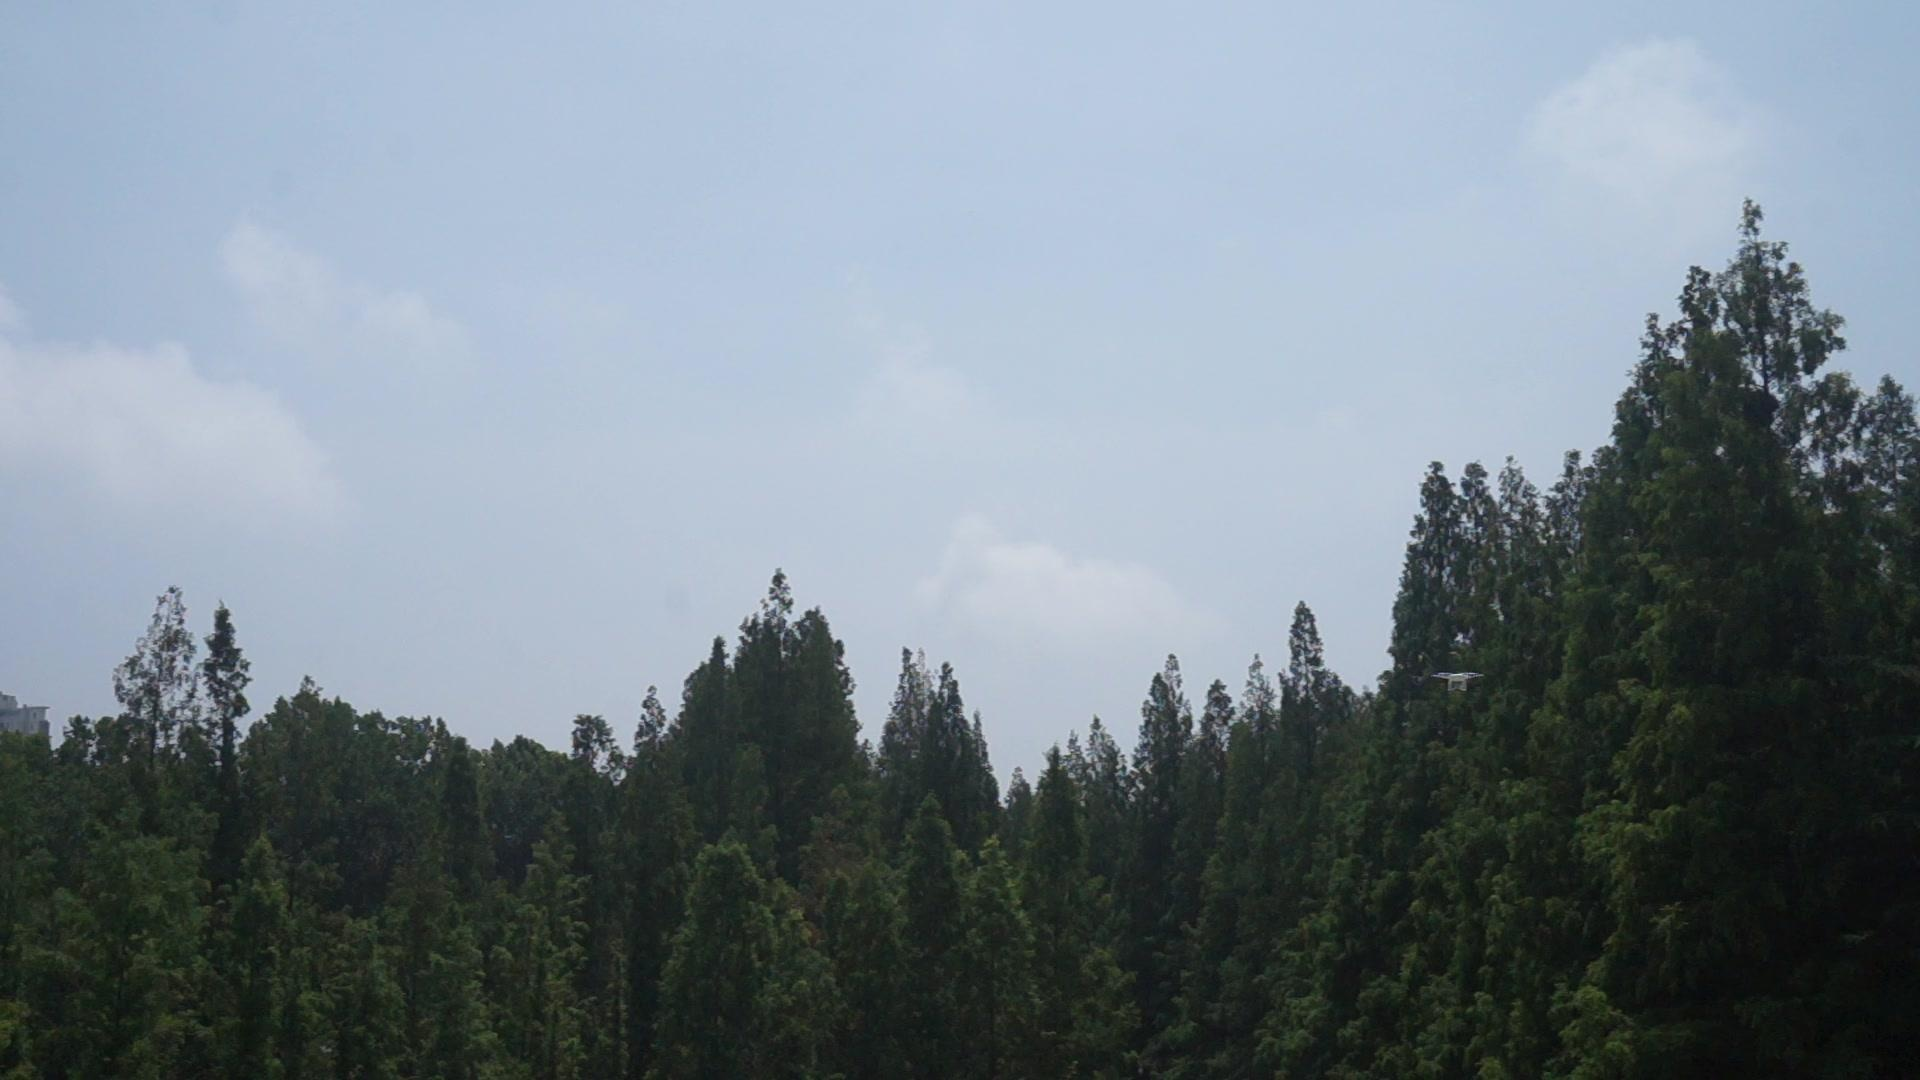UAV: (1431, 673, 1485, 692)
